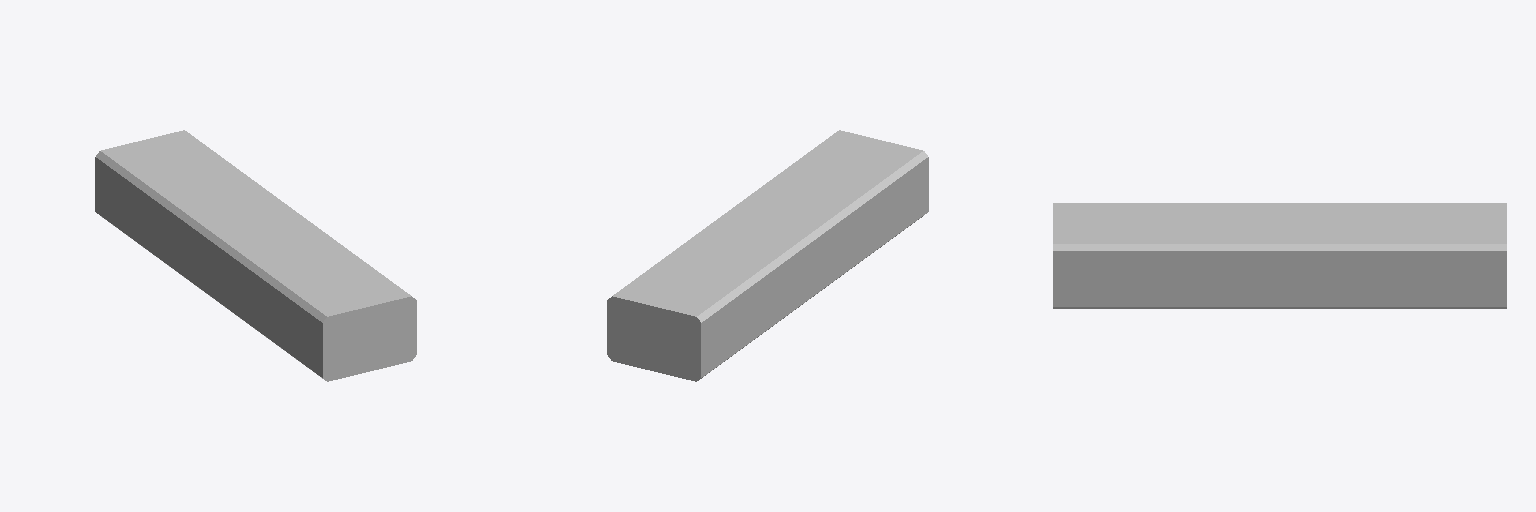
File: industreal_rectangular_peg_12mm.obj
3 views of the same model, side by side, from view 1: azimuth 30°, elevation 25°; view 2: azimuth 150°, elevation 25°; view 3: azimuth 270°, elevation 25° (orthographic).
Bounding box in the file's own units: 0.012 × 0.0079 × 0.05.